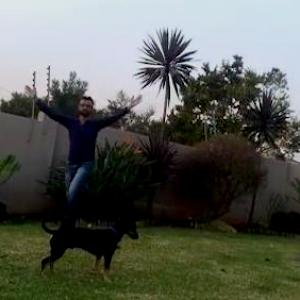takeoff: (45, 92, 162, 226)
